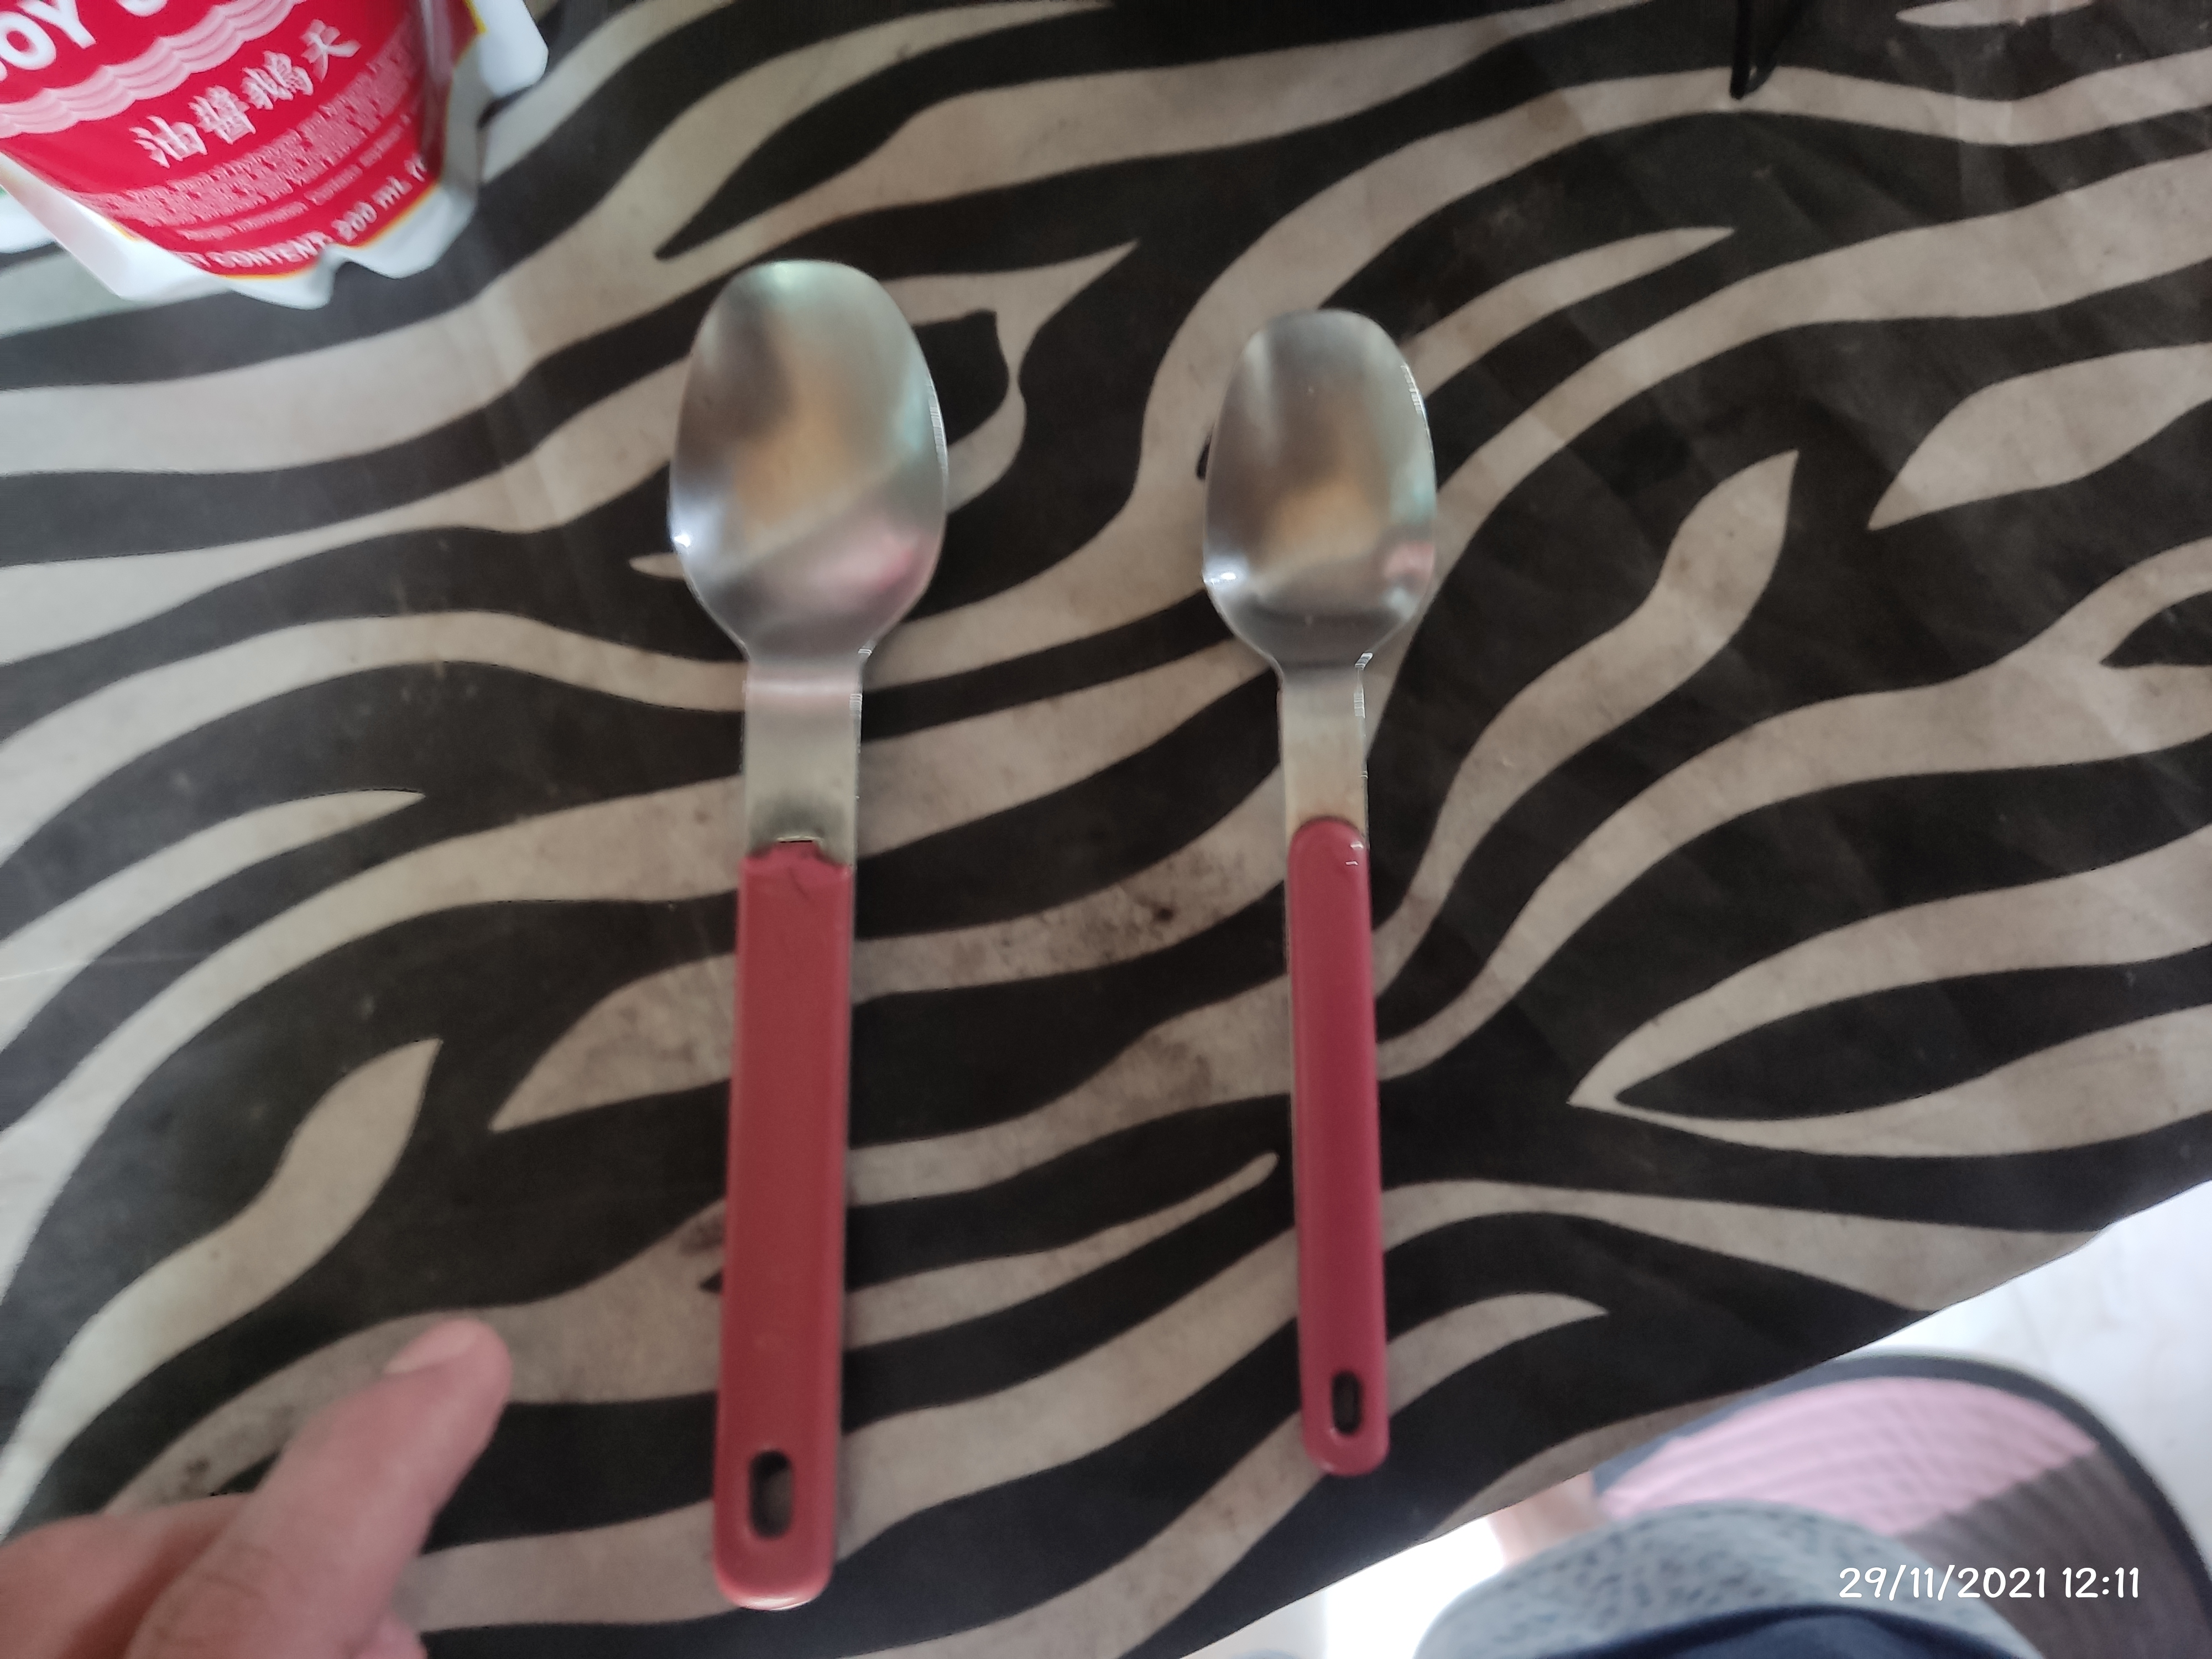spoon: (662, 261, 942, 1608), (1193, 312, 1439, 1469)
